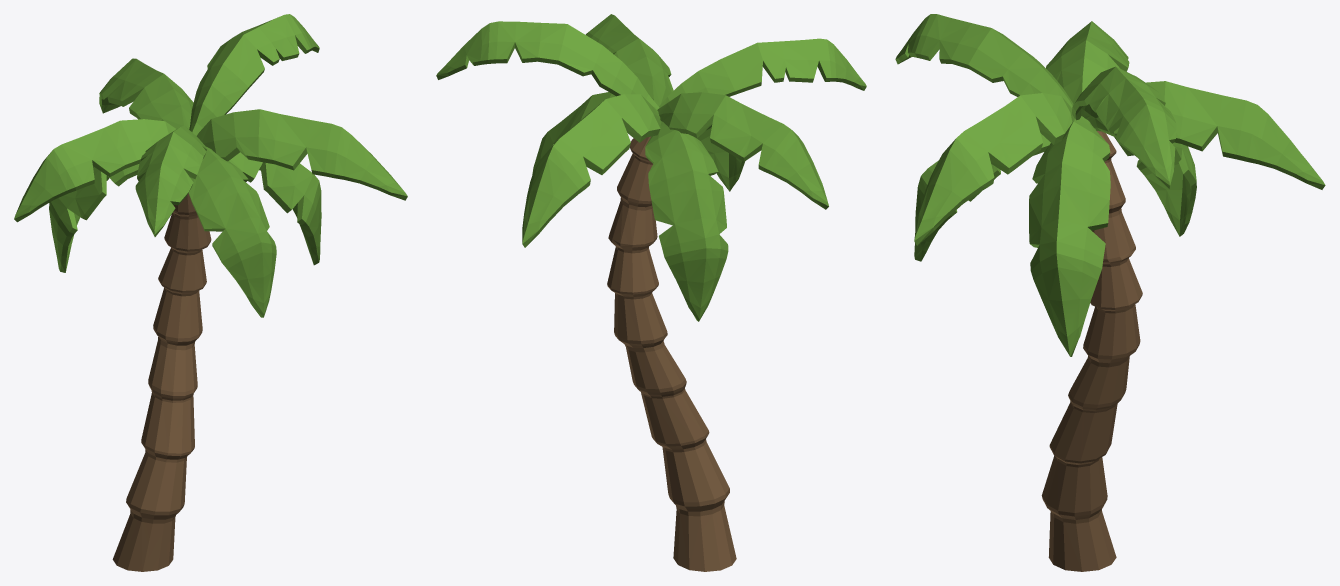
Rendered from cc0-palm-tall.glb.
3 views of the same model, side by side, from view 1: azimuth 30°, elevation 25°; view 2: azimuth 150°, elevation 25°; view 3: azimuth 270°, elevation 25° (orthographic). The views are drawn at different scales.
Parts seen in each view (by area): view 1: cc0-palm-tall; view 2: cc0-palm-tall; view 3: cc0-palm-tall.
Part boxes in pixels (x1,y1,x2,y2): cc0-palm-tall: (14,14,407,571); cc0-palm-tall: (436,14,866,571); cc0-palm-tall: (895,14,1325,571).
Bounding box in the file's own units: 5.82 × 8 × 5.62.
